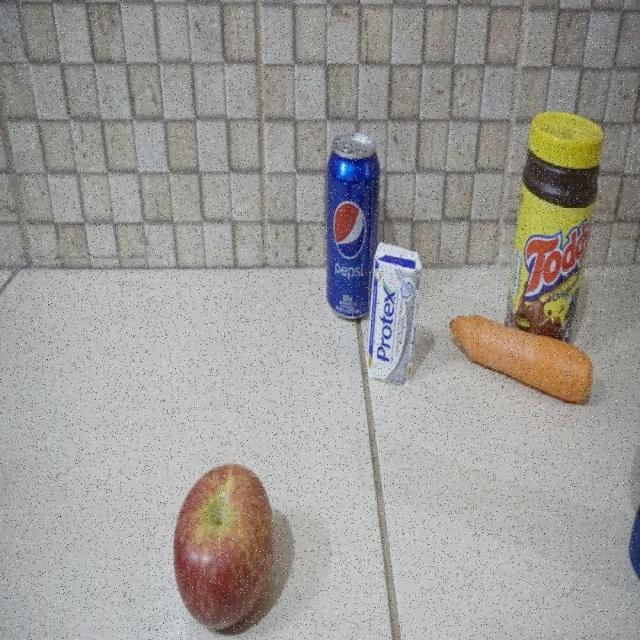Apple: (169, 458, 275, 627)
Carrot: (460, 330, 595, 408)
ChocolatePowder: (508, 107, 602, 330)
Ketchup: (628, 349, 640, 592)
Soap: (371, 240, 421, 385)
SodaCan: (324, 132, 370, 320)
